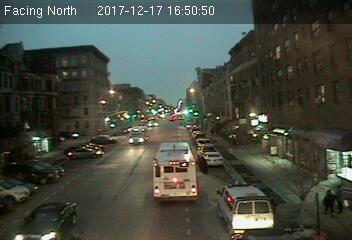bus: (152, 141, 198, 205)
car: (11, 201, 79, 240), (204, 151, 223, 167)
police: (215, 179, 273, 235)
